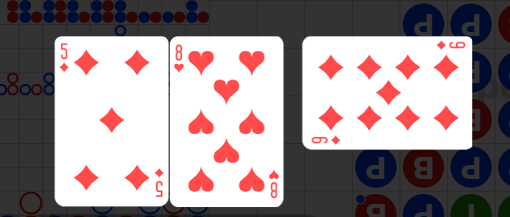5D: (58, 42, 70, 74)
9D: (310, 134, 342, 147), (435, 40, 466, 51)
